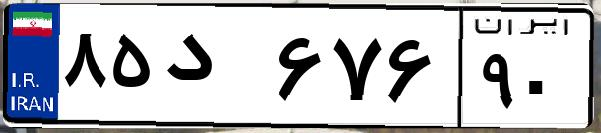0: (525, 38, 570, 115)
5: (110, 28, 158, 98)
6: (270, 28, 330, 110), (385, 28, 445, 110)
7: (330, 28, 385, 110)
8: (57, 26, 110, 100)
9: (475, 38, 525, 113)
د: (158, 20, 270, 120)
